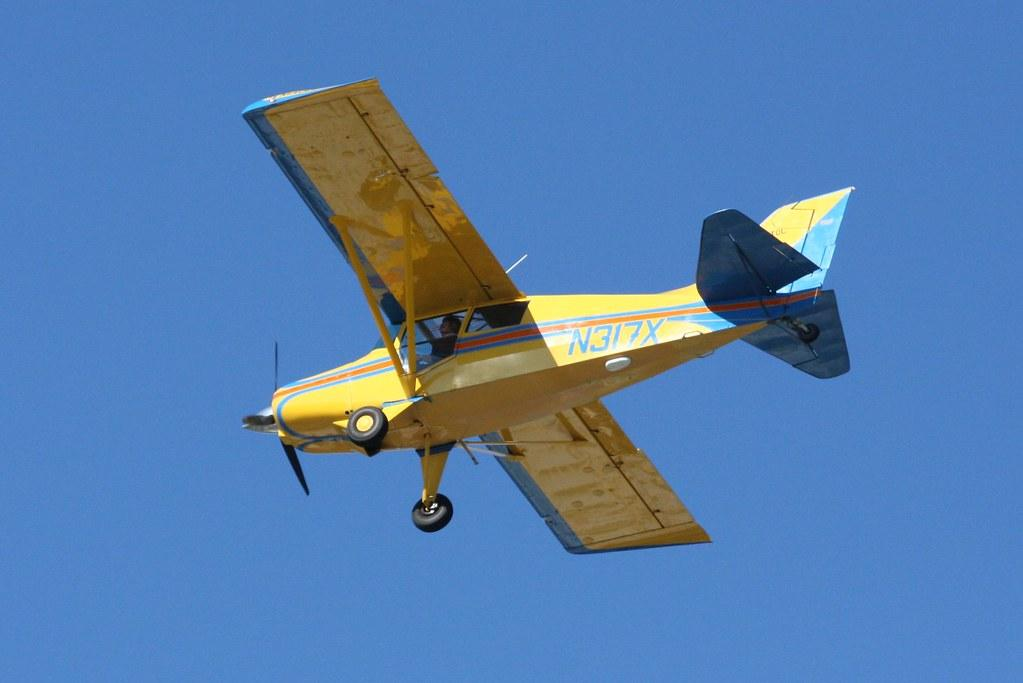plane: (238, 76, 856, 556)
